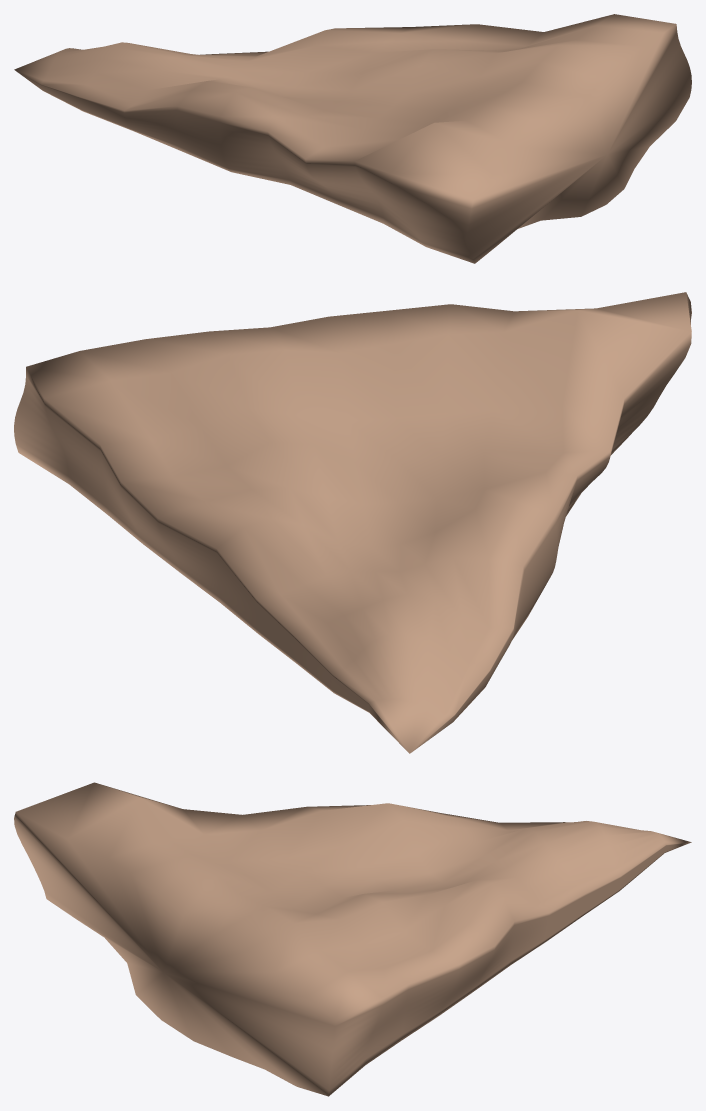
File: PIzza.FBX
3 renders of one model, top to bottom at view 1: azimuth 30°, elevation 25°; view 2: azimuth 150°, elevation 25°; view 3: azimuth 270°, elevation 25°, orthographic. The views are drawn at different scales.
Visible parts, largest first — view 1: Pyramid001; view 2: Pyramid001; view 3: Pyramid001.
Part boxes in pixels (x1,y1,x2,y2): Pyramid001: (14,14,691,263); Pyramid001: (14,292,691,753); Pyramid001: (14,782,691,1096).
Bounding box in the file's own units: 179 × 47.99 × 211.
